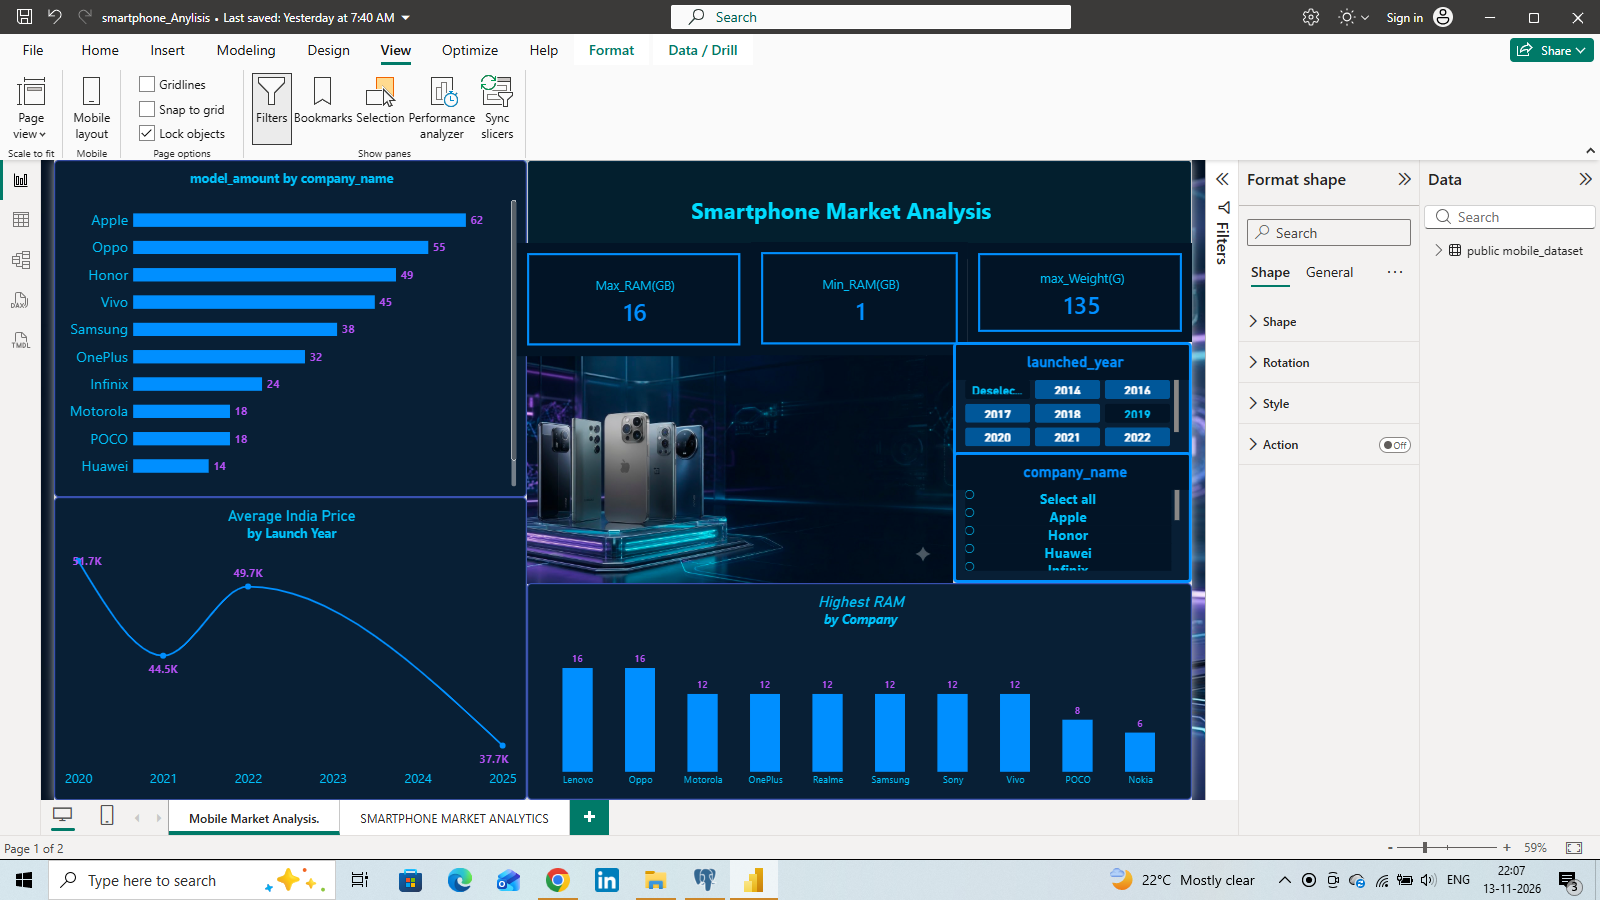

What the dashboard file says about the page in this screenshot:
{"tool":"powerbi","page":{"name":" mpobile Market Analysis.","canvas":[1920,1080],"ordinal":0},"visuals":[{"type":"shape","box":[798.2,0,1122.2,168.8],"z":0},{"type":"image","box":[798.2,224.4,718.9,580.5],"z":1000},{"type":"clusteredBarChart","fields":{"Category":["public mobile_dataset.company_name"],"Y":["CountNonNull(public mobile_dataset.model_name)"]},"box":[0,0,798,568.9],"z":2000},{"type":"lineChart","fields":{"Category":["public mobile_dataset.launched_year"],"Y":["Avg(public mobile_dataset.price_india_inr)"]},"box":[0,568.9,798,511.6],"z":3000},{"type":"lineClusteredColumnComboChart","fields":{"Category":["public mobile_dataset.company_name"],"Y":["Max(public mobile_dataset.ram_gb)"]},"box":[798.2,713.8,1122.2,366.2],"z":4000},{"type":"cardVisual","fields":{"Data":["Max(public mobile_dataset.ram_gb)"]},"box":[781.3,140.1,394.9,190.7],"z":5000},{"type":"cardVisual","fields":{"Data":["Min(public mobile_dataset.weight_g)"]},"box":[1542.4,140.1,378,167.1],"z":6000},{"type":"cardVisual","fields":{"Data":["Min(public mobile_dataset.ram_gb)"]},"box":[1176.2,138.4,366.2,190.7],"z":7000},{"type":"advancedSlicerVisual","fields":{"Values":["public mobile_dataset.launched_year"]},"box":[1517.1,307.1,403,199.5],"z":8000},{"type":"textbox","box":[798.2,59.1,1070.6,57.3],"z":9000},{"type":"listSlicer","fields":{"Values":["public mobile_dataset.company_name"]},"box":[1517.1,492.8,403.3,221.1],"z":10000}]}

Visuals, with their boxes on the page's 1920x1080 design canvas (x1, y1, x2, y2). These are canvas units, not pixel positions in the 1600x900 screenshot, which may show the page scaled, cropped or inside an application window:
shape: x1=798, y1=0, x2=1920, y2=169
image: x1=798, y1=224, x2=1517, y2=805
clusteredBarChart - public mobile_dataset.company_name x CountNonNull(public mobile_dataset.model_name): x1=0, y1=0, x2=798, y2=569
lineChart - public mobile_dataset.launched_year x Avg(public mobile_dataset.price_india_inr): x1=0, y1=569, x2=798, y2=1080
lineClusteredColumnComboChart - public mobile_dataset.company_name x Max(public mobile_dataset.ram_gb): x1=798, y1=714, x2=1920, y2=1080
cardVisual - Max(public mobile_dataset.ram_gb): x1=781, y1=140, x2=1176, y2=331
cardVisual - Min(public mobile_dataset.weight_g): x1=1542, y1=140, x2=1920, y2=307
cardVisual - Min(public mobile_dataset.ram_gb): x1=1176, y1=138, x2=1542, y2=329
advancedSlicerVisual - public mobile_dataset.launched_year: x1=1517, y1=307, x2=1920, y2=507
textbox: x1=798, y1=59, x2=1869, y2=116
listSlicer - public mobile_dataset.company_name: x1=1517, y1=493, x2=1920, y2=714
